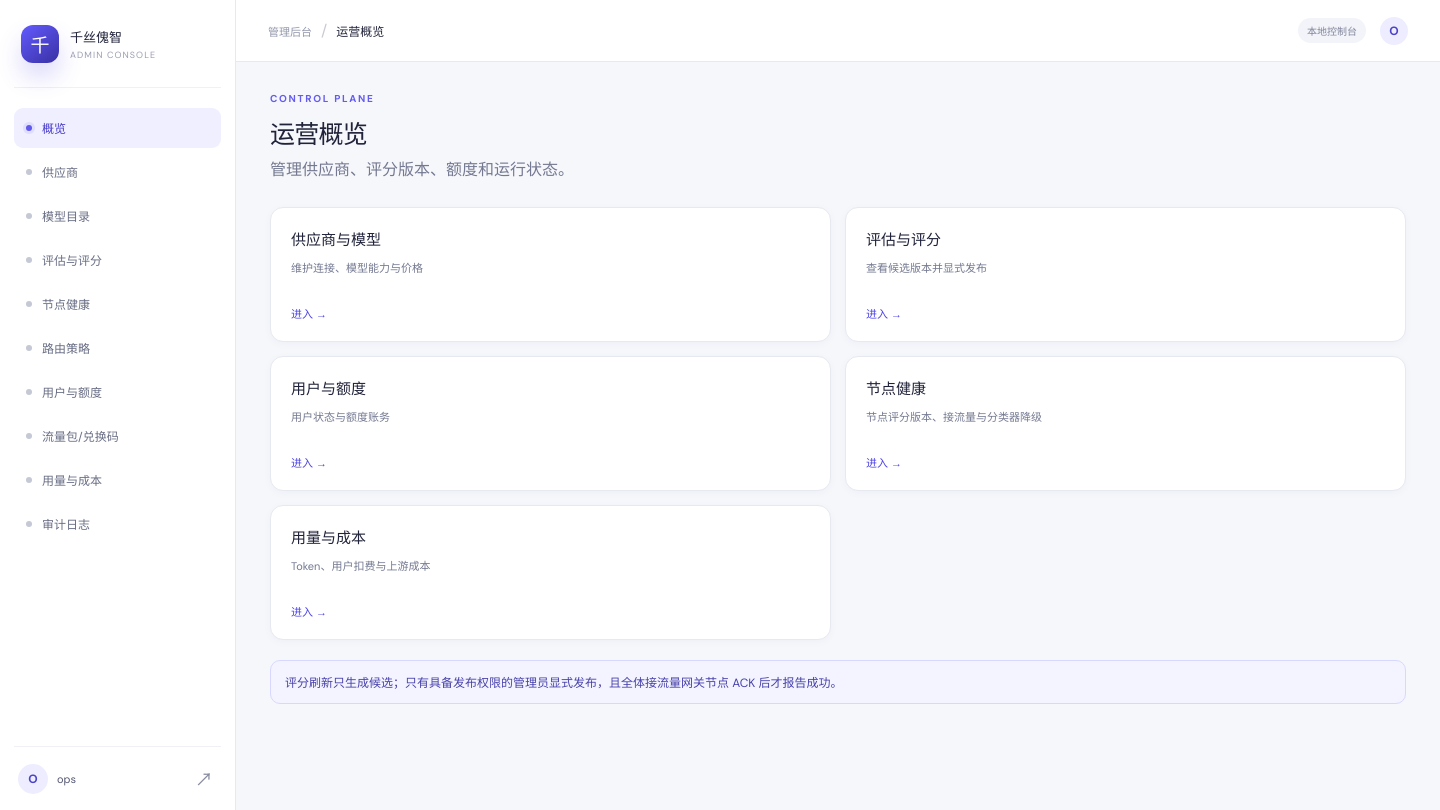
Test: admin evaluation and cost pages › reports a pending publish as not successful
Click the button "评估与评分" at (118, 260), box [14,240,221,280]
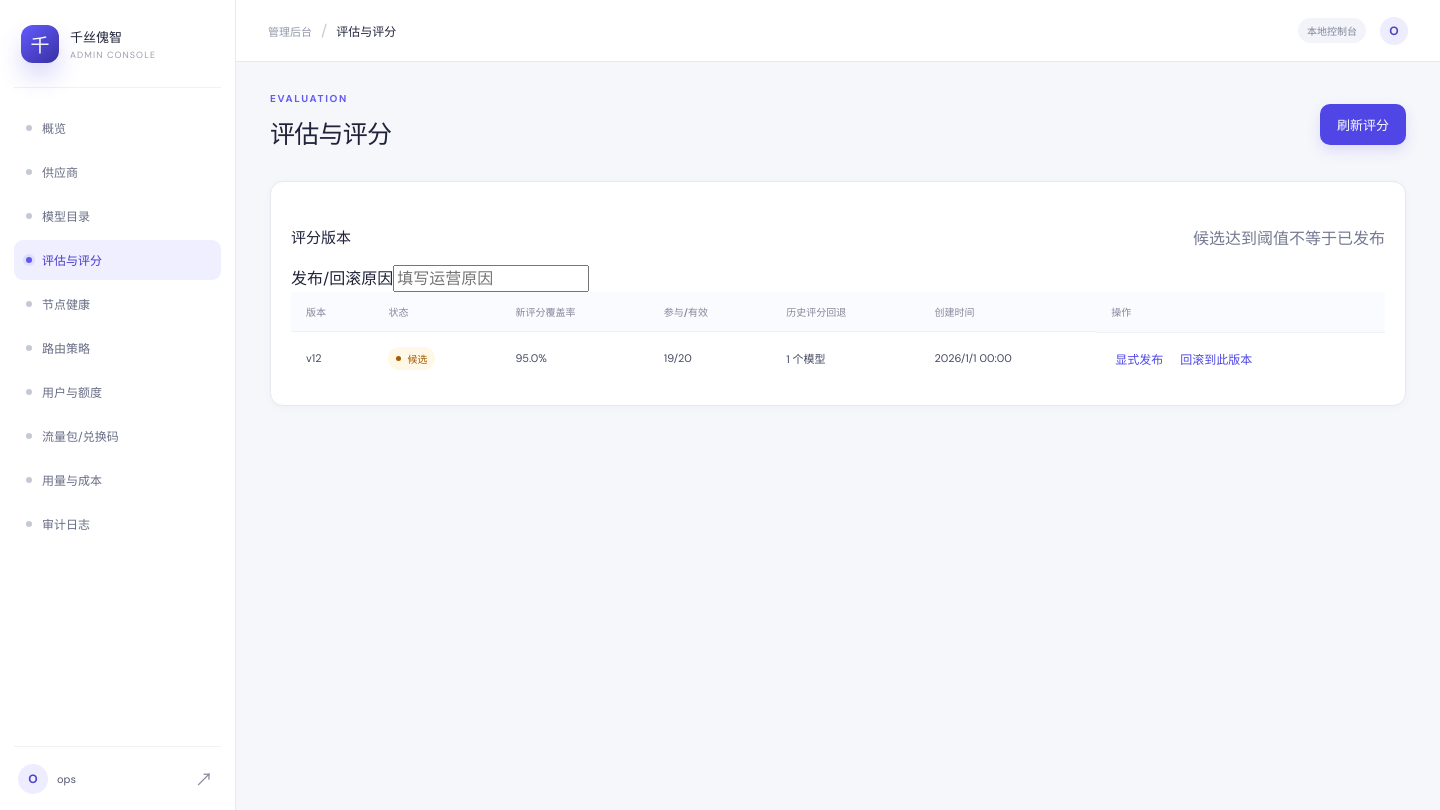
Result: the text "v12" is shown at [291,332,374,384]
Type "运营发布" into the field labelled "发布/回滚原因" at (491, 278), box [393,265,589,292]
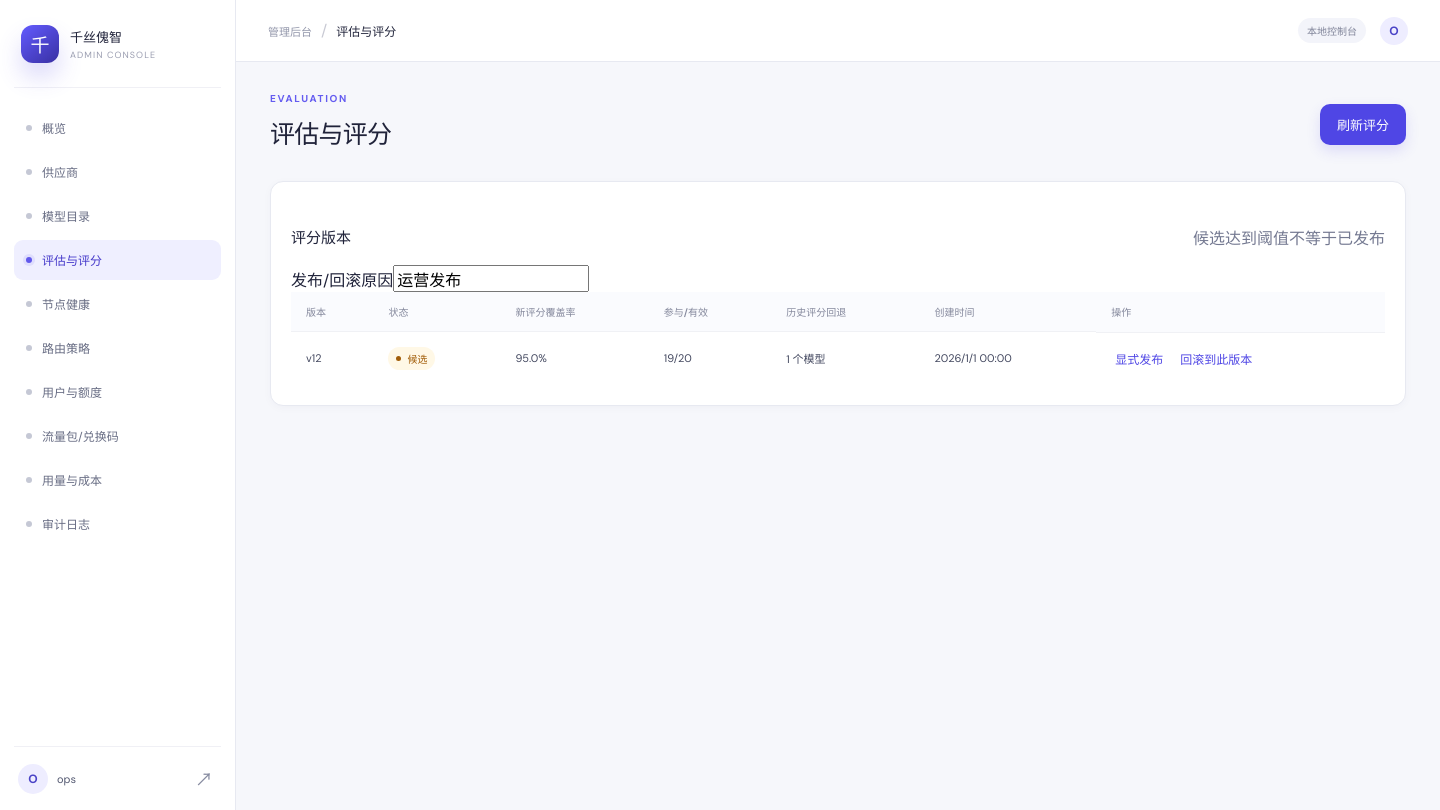
Click the button "显式发布" at (1139, 358), box [1111,346,1167,372]
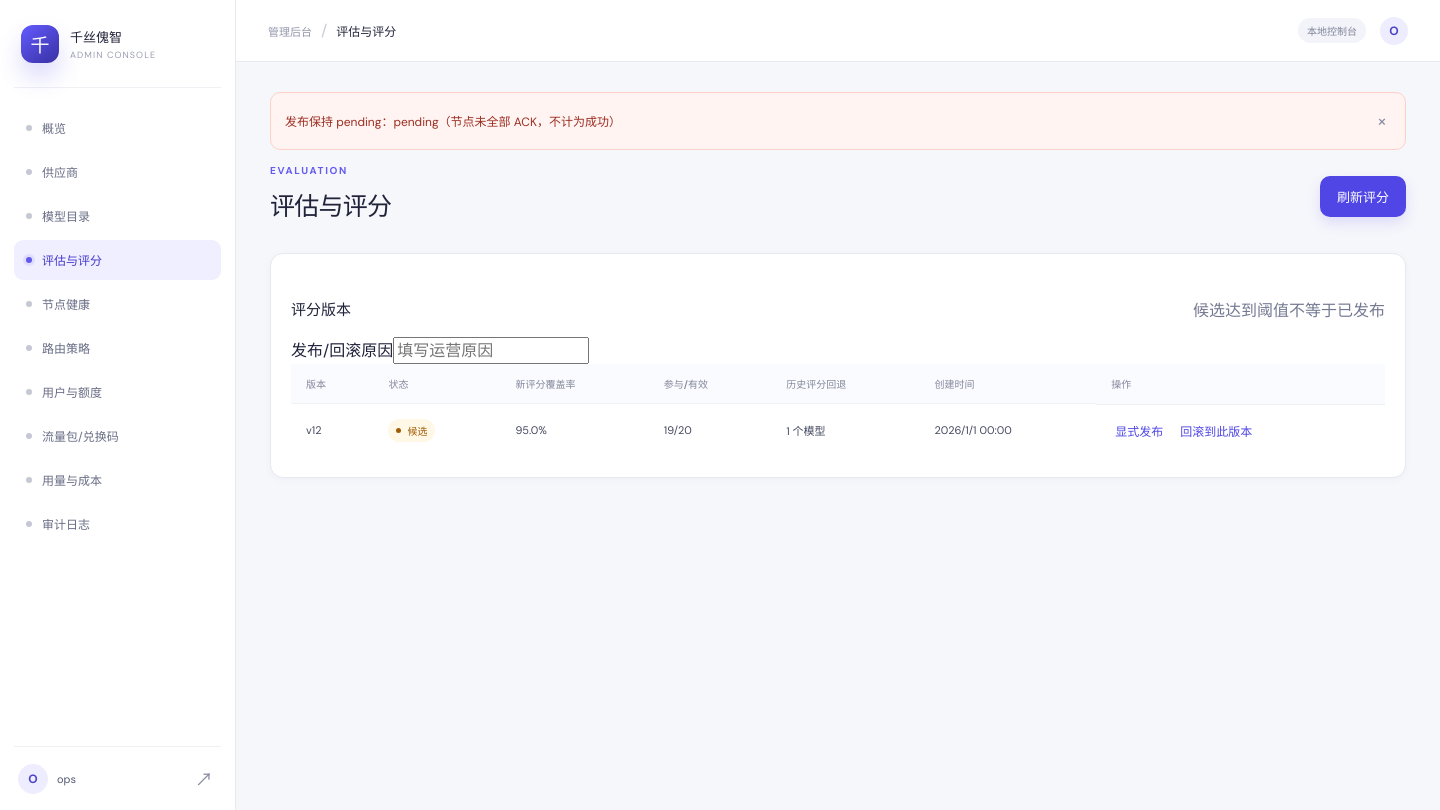
Result: the text "发布保持 pending：pending（节点未全部 ACK，不计为成功） ×" is shown at [270,92,1406,150]
